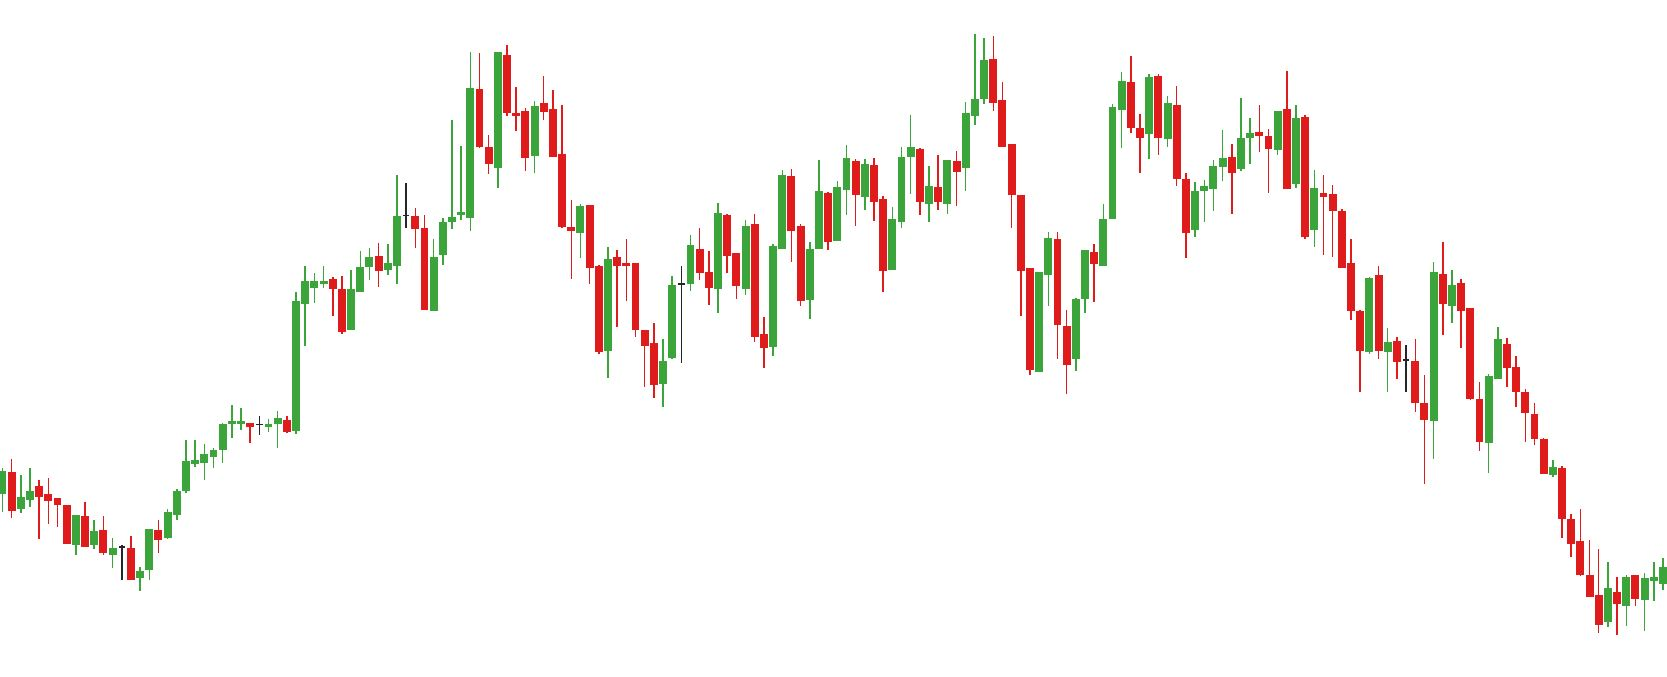buy: (876, 177, 1046, 380), (704, 240, 780, 370), (592, 298, 669, 407), (366, 229, 439, 317)
sell: (1364, 240, 1449, 362), (1235, 64, 1292, 182)
